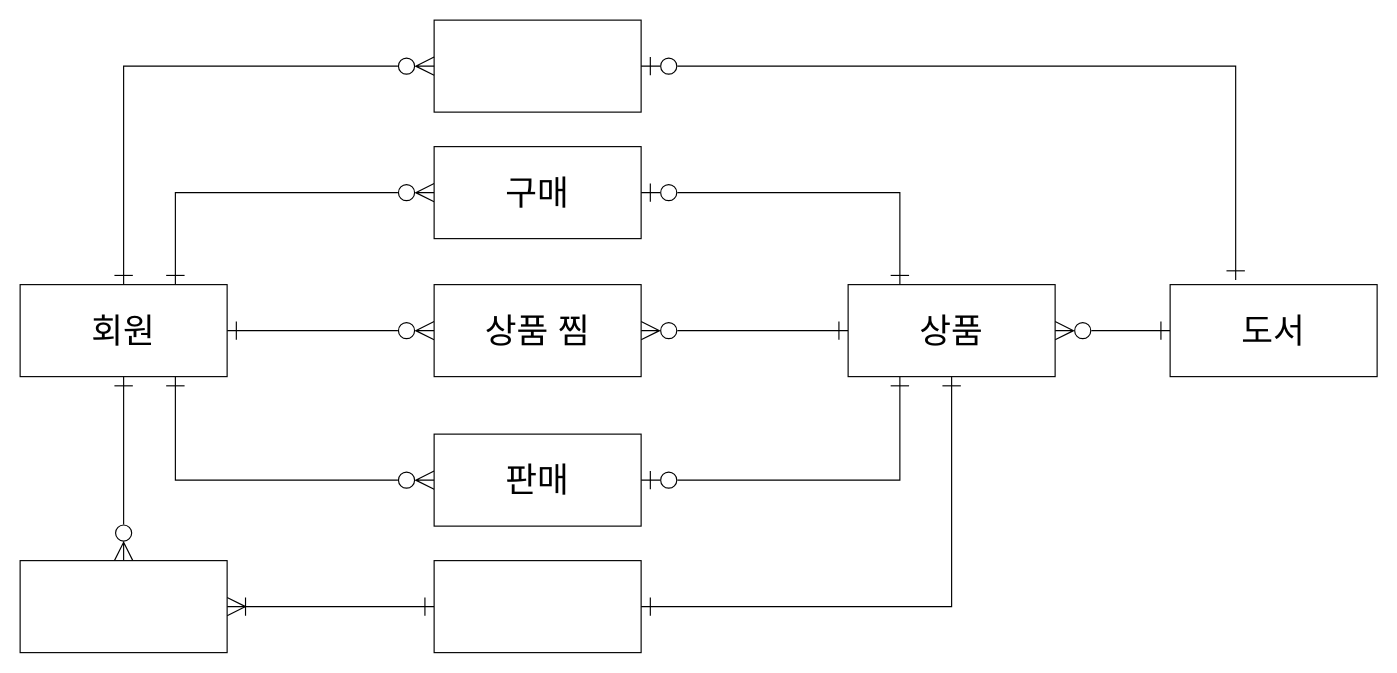
Image size: 1397x673. Some labels were removed from this diagram. The shapes that lost their labels are listed below. From the top down, each one's centre as x and y in pixels, then its label:
At [537,65]: "도서 찜".
At [123,606]: "채팅".
At [537,606]: "채팅방".
